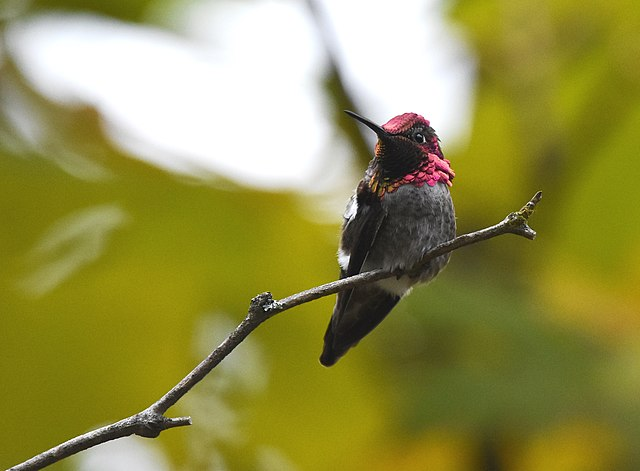calypte anna: (317, 109, 465, 368)
